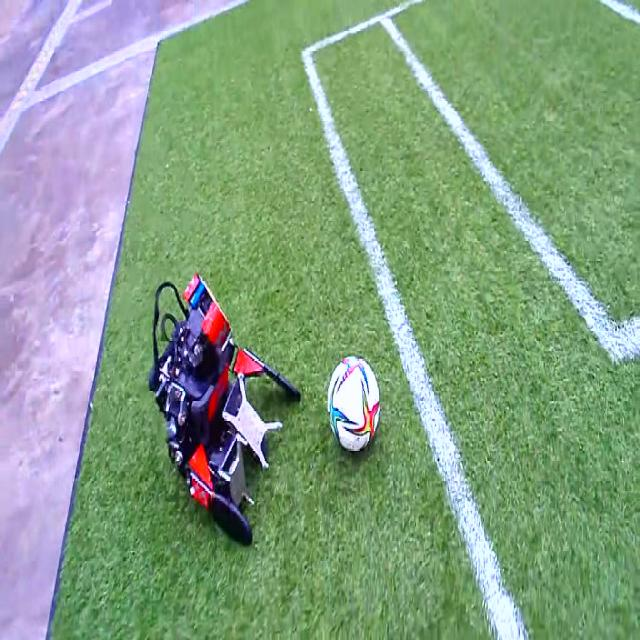ball: (328, 356, 379, 448)
